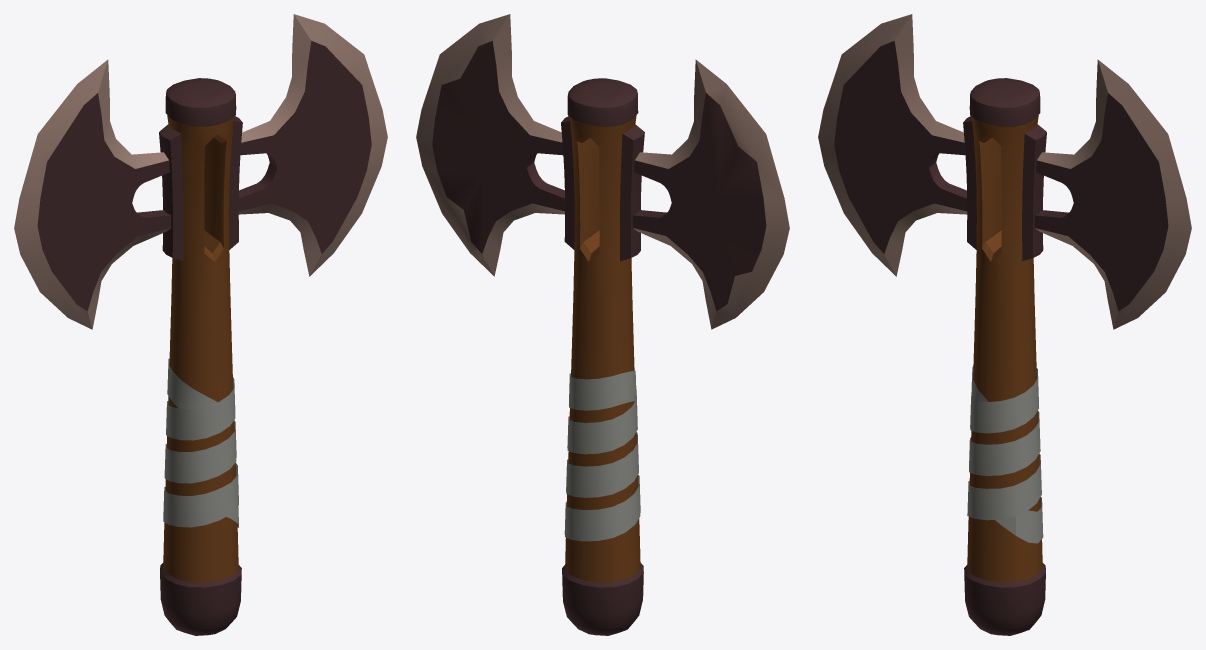
File: Weapon_DoubleAxe.glb
3 views of the same model, side by side, from view 1: azimuth 30°, elevation 25°; view 2: azimuth 150°, elevation 25°; view 3: azimuth 330°, elevation 25° (orthographic).
Visible parts, largest first — view 1: Weapon_DoubleAxe; view 2: Weapon_DoubleAxe; view 3: Weapon_DoubleAxe.
Boxes of the visible parts, bbox=[...] form: Weapon_DoubleAxe: bbox=[14, 14, 387, 635]; Weapon_DoubleAxe: bbox=[416, 14, 789, 635]; Weapon_DoubleAxe: bbox=[818, 14, 1191, 635].
Size of the model in its own units: 0.6627 by 1.01 by 0.1247.
1 material, 1 textured.
